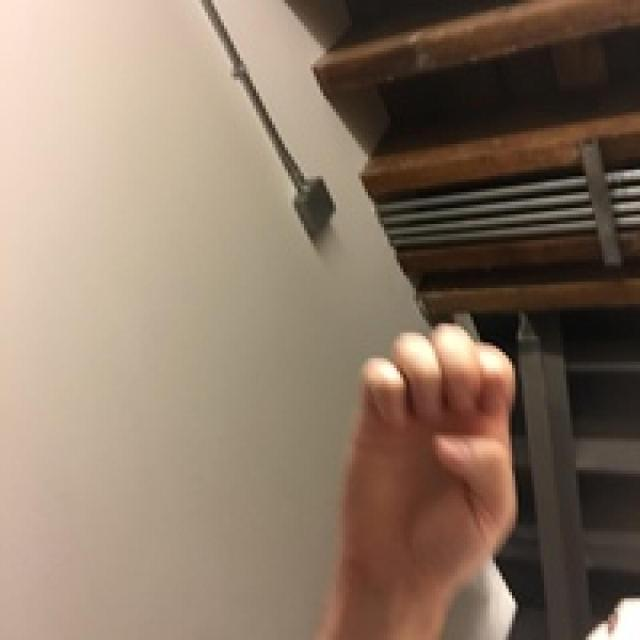E: (305, 273, 598, 640)
